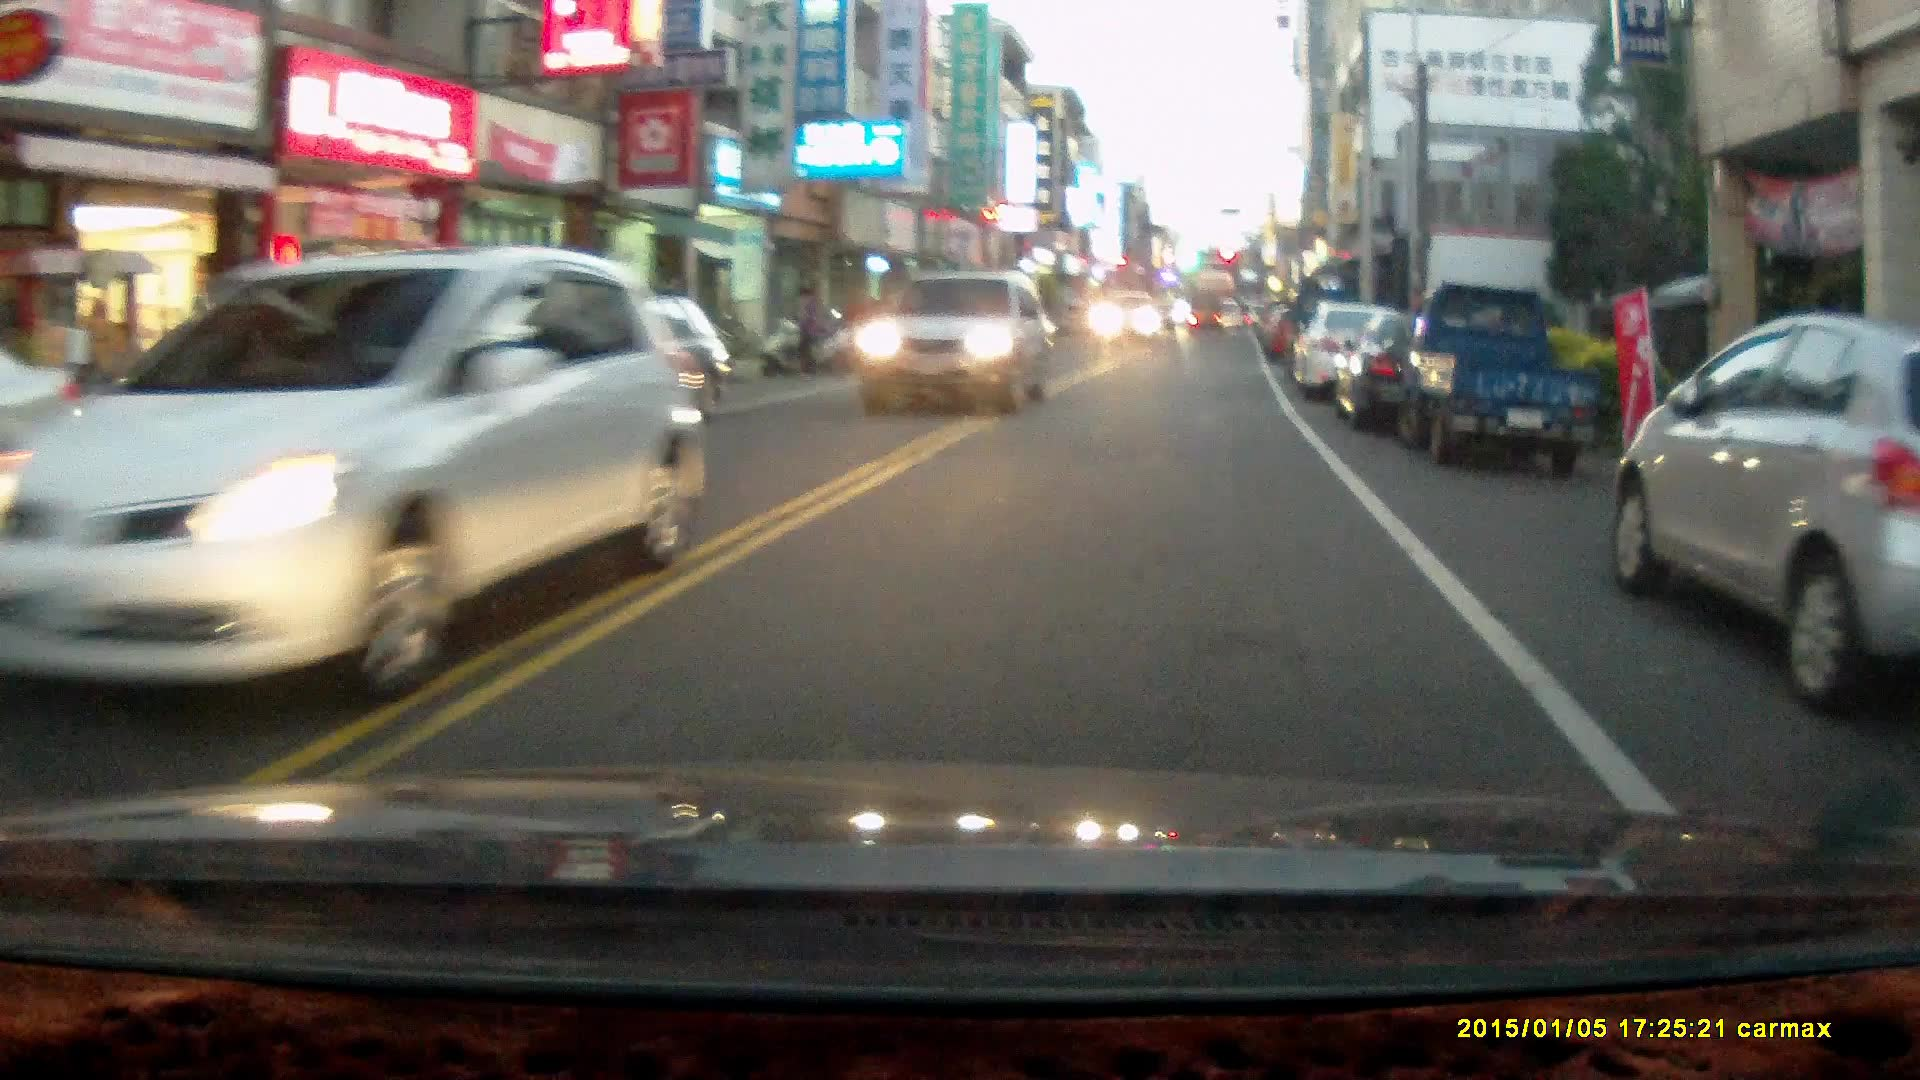pedestrian: (796, 287, 823, 380)
vehicle: (17, 249, 704, 720), (1601, 316, 1920, 708), (1396, 283, 1611, 480), (476, 297, 727, 447), (848, 273, 1054, 418), (1332, 302, 1534, 439), (1287, 299, 1443, 407), (1092, 291, 1171, 352)
